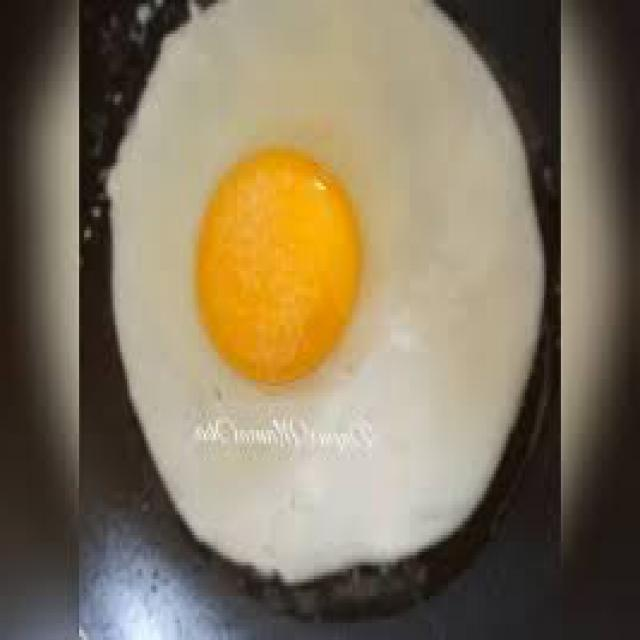Fried Egg: (116, 0, 542, 574)
